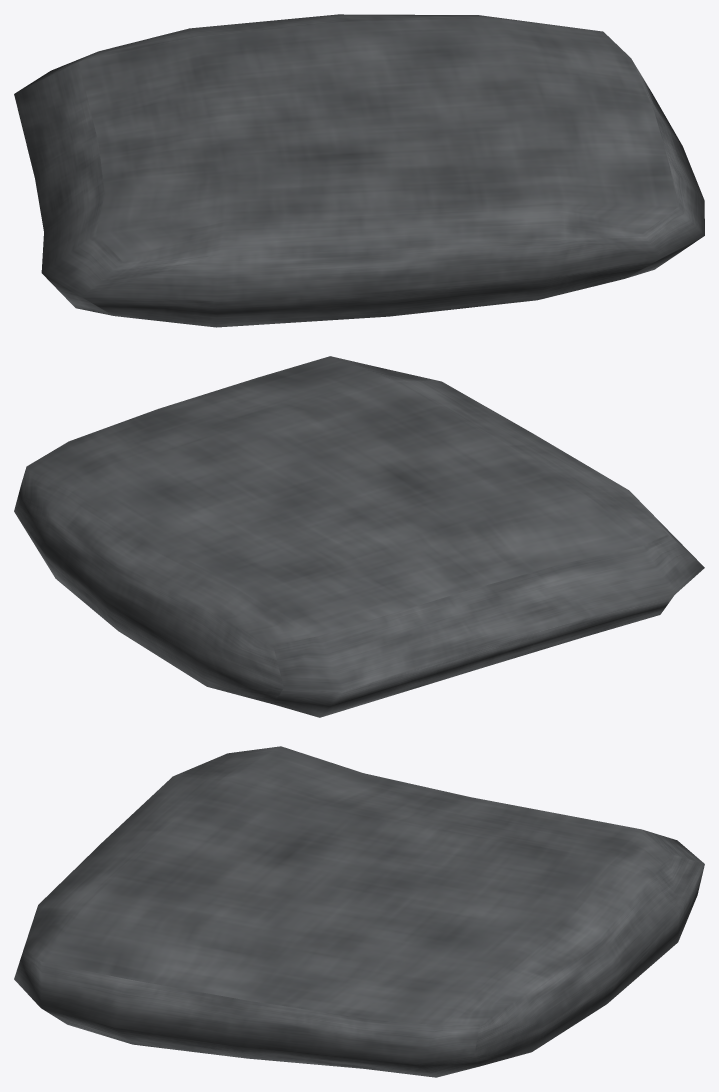
Rendered from Steen 9.fbx.
3 renders of one model, top to bottom at view 1: azimuth 30°, elevation 25°; view 2: azimuth 150°, elevation 25°; view 3: azimuth 270°, elevation 25°, orthographic. The views are drawn at different scales.
Parts seen in each view (by area): view 1: pCube9; view 2: pCube9; view 3: pCube9.
Part boxes in pixels (x1,y1,x2,y2): pCube9: [14, 14, 704, 327]; pCube9: [14, 356, 704, 717]; pCube9: [14, 746, 704, 1077].
Bounding box in the file's own units: 1.53 × 0.2177 × 1.45.
